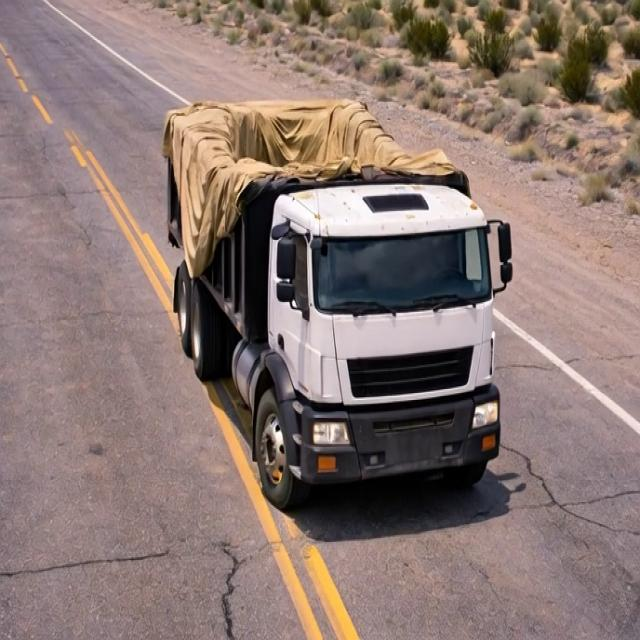Box: (162, 91, 478, 185)
Truck: (157, 60, 516, 502)
